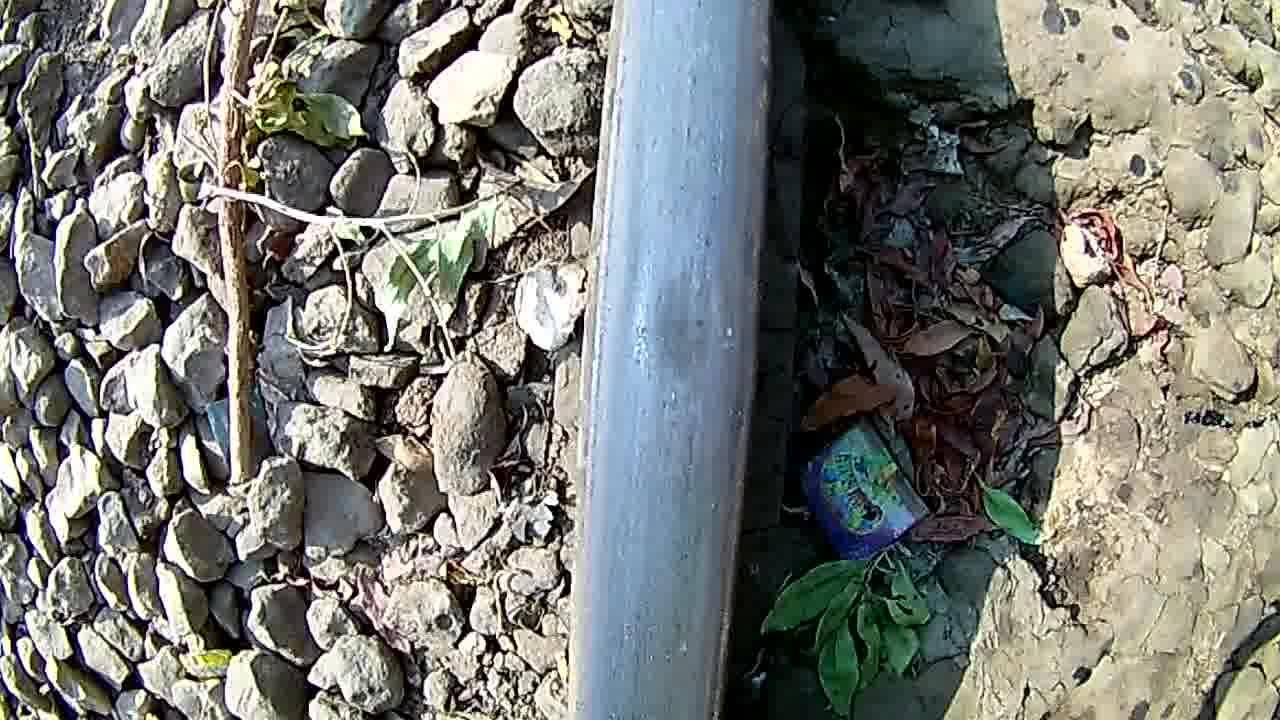crack: (602, 187, 764, 465)
